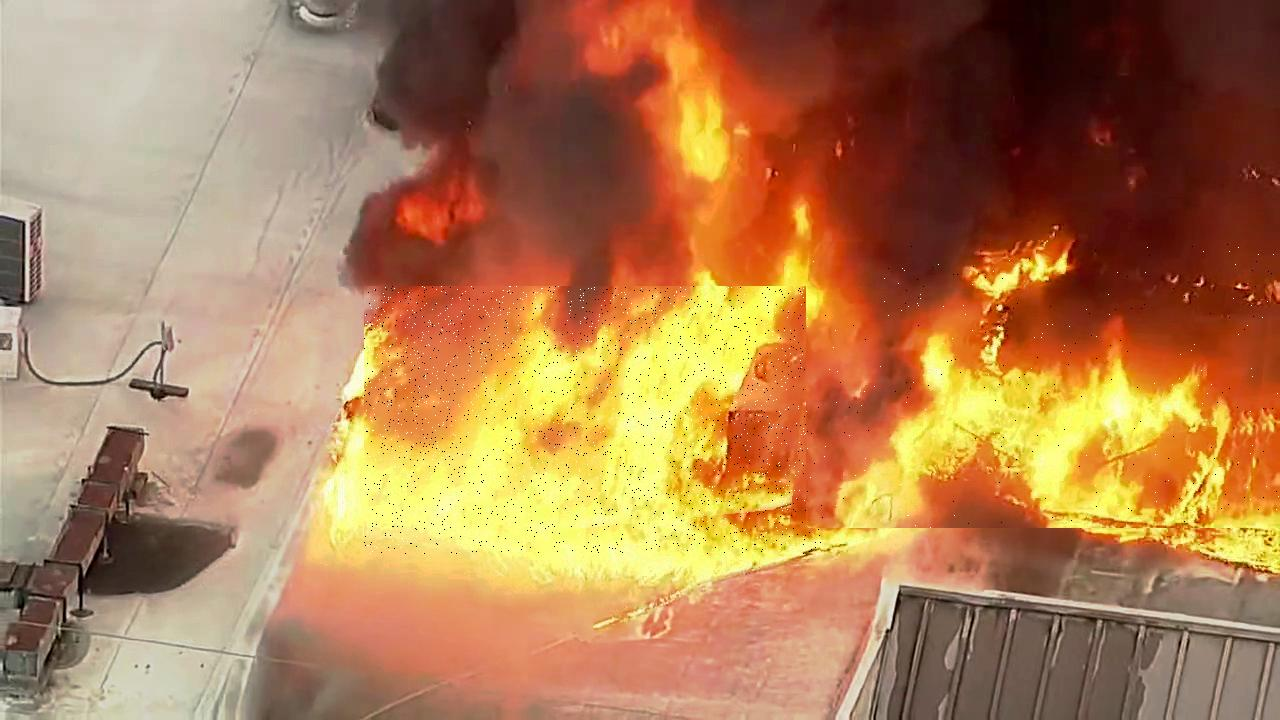fire: (809, 242, 1280, 528), (365, 287, 822, 555)
